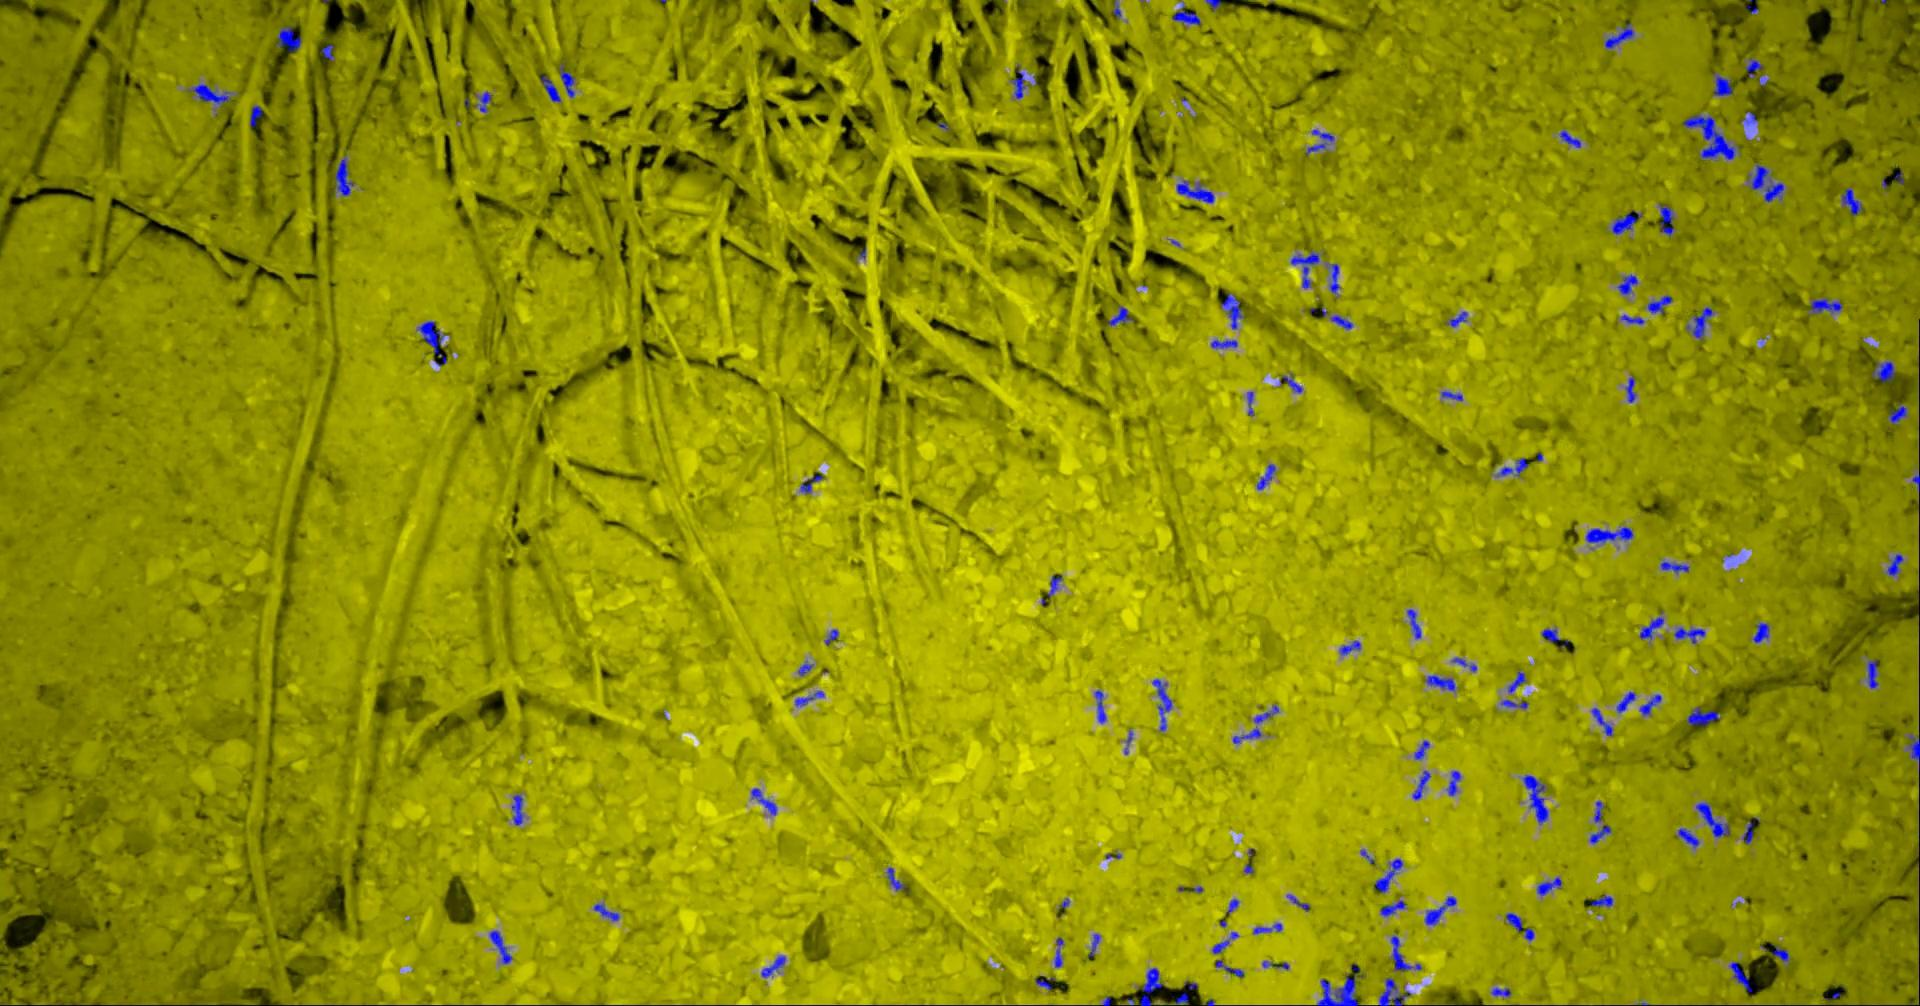ant: (1683, 113, 1735, 159), (1232, 704, 1277, 743), (1316, 974, 1363, 1005), (1749, 164, 1783, 202), (417, 320, 446, 365), (1523, 774, 1548, 824), (1695, 801, 1730, 837), (1390, 935, 1421, 970), (1290, 250, 1319, 287), (1150, 678, 1171, 730), (1373, 857, 1402, 892), (1423, 895, 1457, 925), (188, 83, 230, 105), (1137, 967, 1161, 1005), (1378, 977, 1410, 1005), (1686, 306, 1713, 339), (333, 155, 353, 196), (1175, 180, 1213, 202), (1505, 912, 1534, 940), (1585, 526, 1633, 542), (1220, 292, 1242, 329), (1604, 22, 1633, 48), (488, 930, 510, 963), (1172, 0, 1200, 25), (1305, 130, 1333, 155), (1611, 211, 1642, 234), (1730, 962, 1752, 992), (750, 788, 776, 814), (276, 25, 301, 51), (1639, 612, 1663, 639), (1495, 457, 1528, 476), (1686, 706, 1719, 725), (1841, 187, 1863, 215), (538, 75, 560, 102), (1591, 708, 1611, 735), (1411, 770, 1430, 799), (1211, 931, 1237, 953), (759, 955, 785, 977), (557, 64, 574, 97), (1542, 627, 1570, 647), (1423, 674, 1455, 691), (1808, 297, 1843, 312), (1870, 361, 1895, 382), (886, 868, 908, 892), (1214, 959, 1243, 977), (1107, 305, 1133, 325), (1658, 205, 1674, 236), (1256, 464, 1275, 489), (794, 690, 823, 706), (1639, 694, 1661, 715), (1674, 627, 1704, 643), (1537, 876, 1561, 895), (1279, 373, 1302, 392), (800, 474, 823, 493), (1589, 824, 1611, 843), (1647, 295, 1671, 312), (1010, 70, 1025, 98), (593, 903, 618, 920), (1713, 75, 1733, 95), (1507, 671, 1526, 692), (1617, 691, 1636, 713), (1677, 828, 1699, 847), (1406, 608, 1420, 638), (1886, 553, 1903, 575), (510, 794, 523, 826), (1326, 263, 1338, 293), (1617, 274, 1637, 293), (1865, 658, 1878, 688), (1286, 894, 1309, 911), (1380, 901, 1404, 916), (1743, 58, 1763, 77), (1095, 690, 1106, 721), (474, 91, 491, 112), (1559, 130, 1580, 147), (1888, 403, 1906, 423), (1909, 734, 1919, 770), (1450, 657, 1476, 671), (1446, 770, 1460, 795), (1252, 922, 1281, 934), (1330, 315, 1352, 329), (1660, 561, 1688, 573), (1752, 622, 1769, 641), (1046, 575, 1062, 596), (1413, 739, 1429, 760), (1338, 640, 1360, 654), (1771, 945, 1789, 962), (1448, 311, 1467, 326), (249, 105, 262, 127), (1625, 375, 1636, 401), (1087, 934, 1098, 956), (1035, 977, 1055, 989), (1500, 699, 1528, 708), (1210, 339, 1237, 348), (1622, 314, 1644, 324), (1742, 821, 1752, 843), (1262, 960, 1288, 969), (1054, 937, 1062, 967), (1592, 800, 1603, 822), (1590, 895, 1611, 906), (1742, 111, 1757, 124), (824, 629, 838, 644), (1440, 391, 1462, 400), (1246, 391, 1253, 415), (1490, 987, 1510, 996), (1175, 992, 1189, 1005), (321, 44, 333, 60), (797, 663, 813, 674), (1205, 0, 1222, 10)
